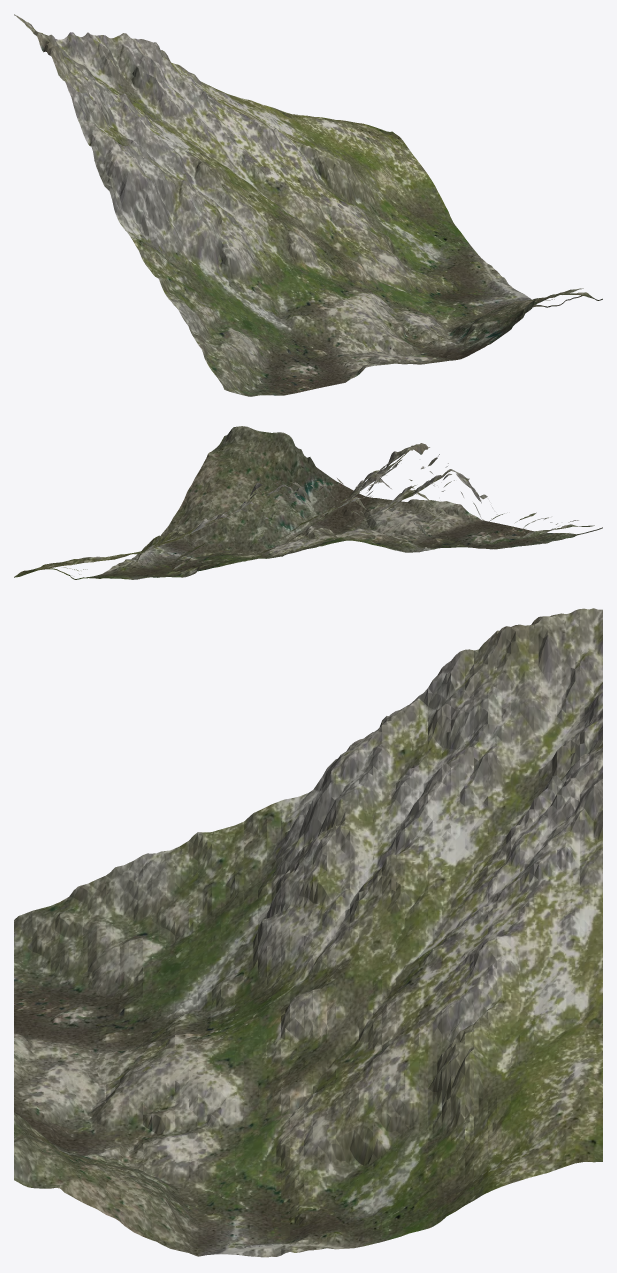
3 views of the same model, one above another, from view 1: azimuth 30°, elevation 25°; view 2: azimuth 150°, elevation 25°; view 3: azimuth 270°, elevation 25° (orthographic). The views are drawn at different scales.
Size of the model in its own units: 1000 by 707 by 963.
Materials: 1 (1 with a texture image).
